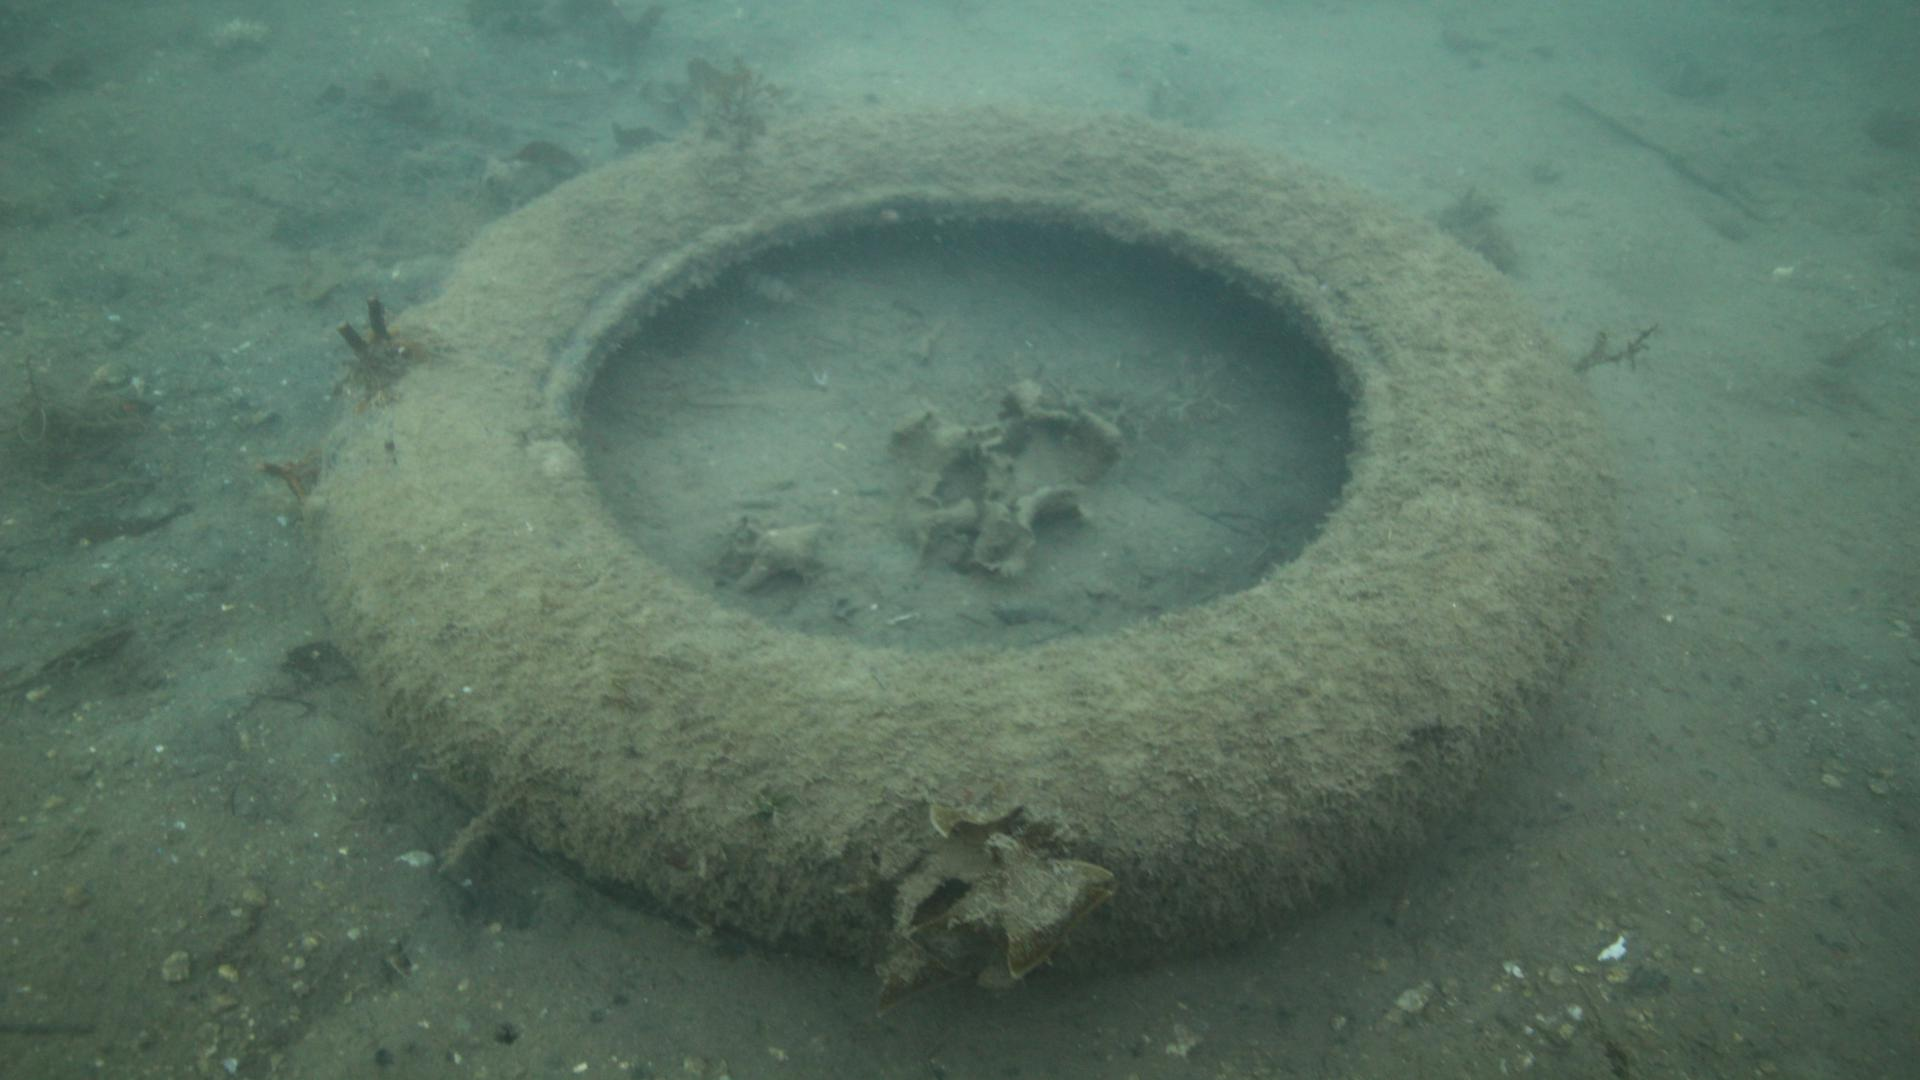tire: (313, 102, 1607, 978)
